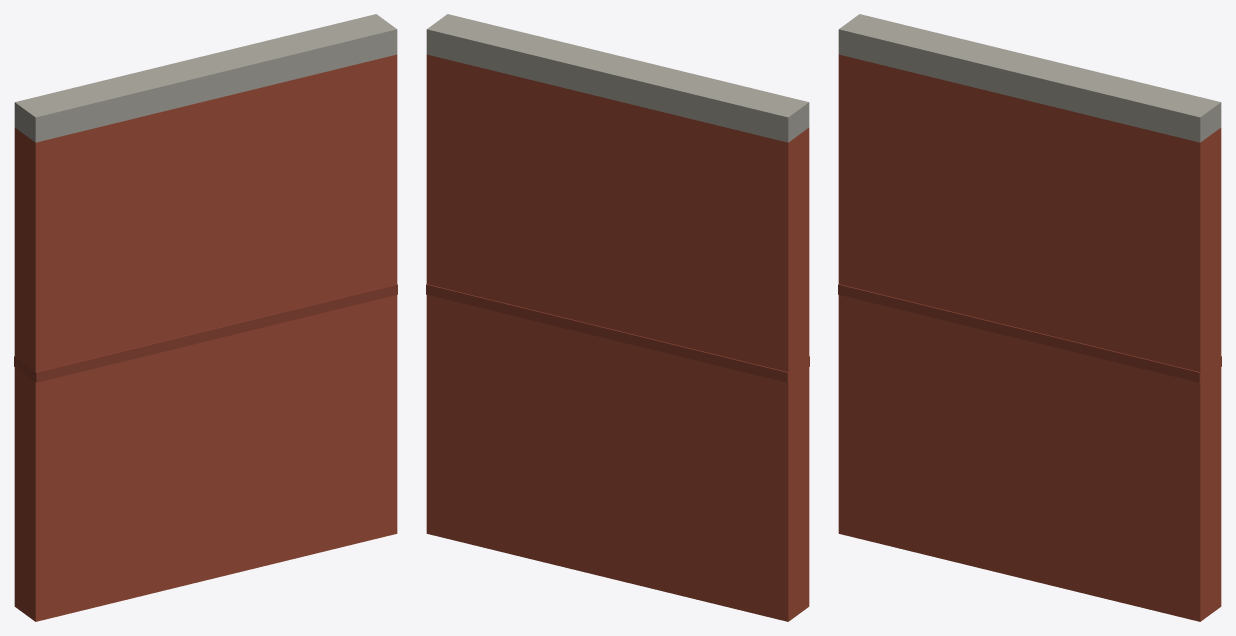
Rendered from con_wall_brick.glb.
3 renders of one model, left to right at view 1: azimuth 30°, elevation 25°; view 2: azimuth 150°, elevation 25°; view 3: azimuth 330°, elevation 25°, orthographic.
Parts seen in each view (by area): view 1: con_wall_brick; view 2: con_wall_brick; view 3: con_wall_brick.
Part boxes in pixels (x1,y1,x2,y2): con_wall_brick: (14,14,397,621); con_wall_brick: (426,14,809,621); con_wall_brick: (838,14,1221,621).
Bounding box in the file's own units: 3 × 4 × 0.32.
